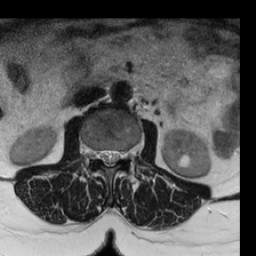CCS_normal: (106, 140, 112, 174)
LFS_normal: (120, 143, 128, 166)
LLS_normal: (112, 140, 120, 170)
RFS_normal: (91, 140, 99, 166)
RLS_normal: (99, 142, 106, 169)
